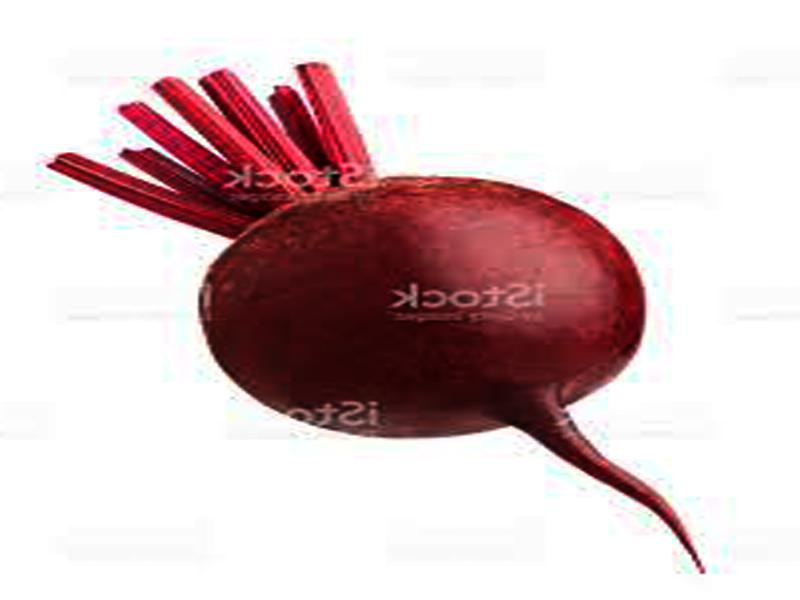Beet: (51, 62, 707, 564)
